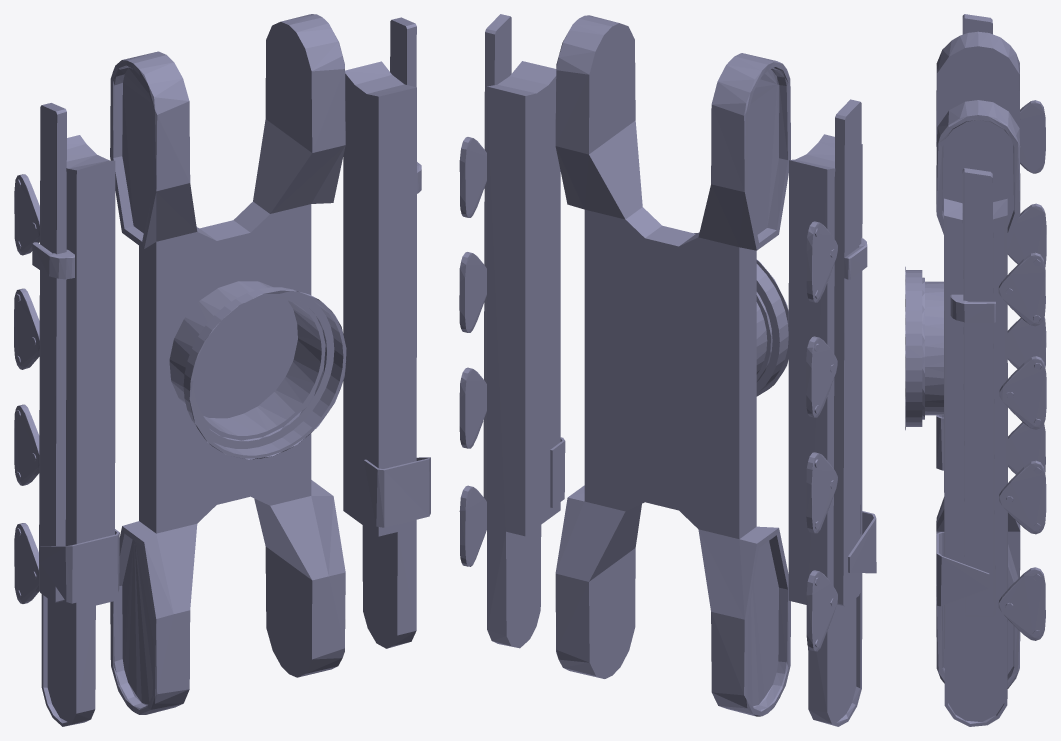
File: track_frame_LowPoly.obj
The picture shows the model from 3 angles, left to right: view 1: azimuth 30°, elevation 25°; view 2: azimuth 150°, elevation 25°; view 3: azimuth 270°, elevation 25°; orthographic projection. The views are drawn at different scales.
Visible parts, largest first — view 1: track_frame_LowPoly\Facets; view 2: track_frame_LowPoly\Facets; view 3: track_frame_LowPoly\Facets.
Boxes of the visible parts, x1,y1,x2,y2 form: track_frame_LowPoly\Facets: (14, 14, 430, 726); track_frame_LowPoly\Facets: (459, 14, 876, 726); track_frame_LowPoly\Facets: (905, 14, 1046, 726).
Size of the model in its own units: 2.53 by 4.2 by 0.9192.
